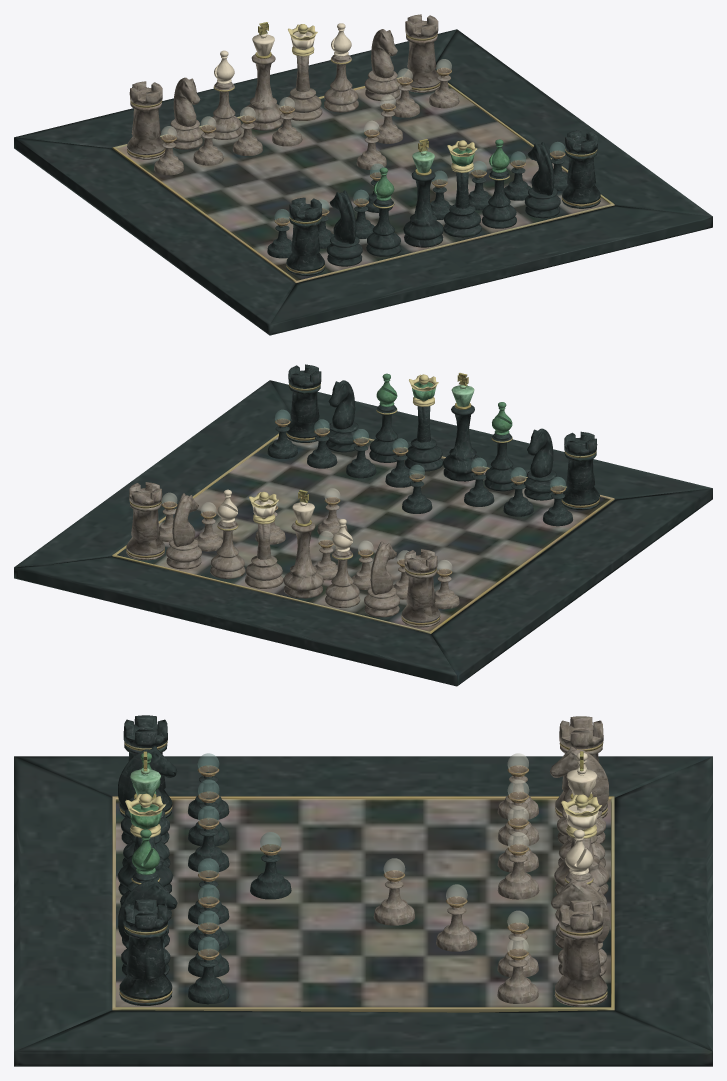
Rendered from chess-set.glb.
3 views of the same model, one above another, from view 1: azimuth 30°, elevation 25°; view 2: azimuth 150°, elevation 25°; view 3: azimuth 270°, elevation 25° (orthographic). The views are drawn at different scales.
Parts seen in each view (by area): view 1: Chessboard, Pawn_Body_Shared (×13), Castle_B2, Castle_B1, Castle_W2, King_B, Castle_W1, King_W, Queen_B, Queen_W, Knight_W1, Knight_B1 (+6 smaller); view 2: Chessboard, Pawn_Body_Shared (×13), Castle_W2, Castle_W1, Castle_B1, King_W, Castle_B2, King_B, Queen_W, Queen_B, Knight_W1, Knight_W2 (+6 smaller); view 3: Chessboard, Pawn_Body_Shared (×16), Castle_B2, Castle_W1, Castle_B1, Knight_B1, Knight_W2, Castle_W2, King_W, King_B, Queen_B, Queen_W (+6 smaller).
Boxes of the visible parts, left/top/right/bottom form: Chessboard: left=14, top=29, right=712, bottom=335; Pawn_Body_Shared (×13): left=154, top=67, right=531, bottom=258; Castle_B2: left=562, top=130, right=600, bottom=208; Castle_B1: left=286, top=197, right=324, bottom=275; Castle_W2: left=127, top=81, right=165, bottom=159; King_B: left=403, top=139, right=443, bottom=247; Castle_W1: left=403, top=14, right=440, bottom=92; King_W: left=243, top=22, right=283, bottom=130; Queen_B: left=443, top=140, right=481, bottom=237; Queen_W: left=284, top=24, right=322, bottom=120; Knight_W1: left=364, top=29, right=400, bottom=101; Knight_B1: left=326, top=190, right=362, bottom=266; Chessboard: left=14, top=380, right=712, bottom=686; Pawn_Body_Shared (×13): left=195, top=418, right=572, bottom=609; Castle_W2: left=401, top=549, right=440, bottom=627; Castle_W1: left=126, top=482, right=164, bottom=560; Castle_B1: left=561, top=431, right=599, bottom=510; King_W: left=283, top=489, right=323, bottom=598; Castle_B2: left=286, top=364, right=323, bottom=442; King_B: left=443, top=373, right=483, bottom=481; Queen_W: left=245, top=491, right=283, bottom=588; Queen_B: left=404, top=374, right=442, bottom=471; Knight_W1: left=166, top=493, right=201, bottom=569; Knight_W2: left=364, top=541, right=399, bottom=617; Chessboard: left=14, top=756, right=712, bottom=1066; Pawn_Body_Shared (×16): left=188, top=765, right=539, bottom=1004; Castle_B2: left=119, top=899, right=172, bottom=1005; Castle_W1: left=554, top=900, right=607, bottom=1006; Castle_B1: left=119, top=715, right=172, bottom=817; Knight_B1: left=118, top=746, right=177, bottom=844; Knight_W2: left=550, top=746, right=609, bottom=844; Castle_W2: left=555, top=716, right=607, bottom=818; King_W: left=554, top=751, right=609, bottom=894; King_B: left=117, top=751, right=172, bottom=895; Queen_B: left=120, top=793, right=171, bottom=920; Queen_W: left=555, top=794, right=607, bottom=920.
Size of the model in its own units: 0.7054 by 0.169 by 0.7054.
15 materials, 13 textured.
